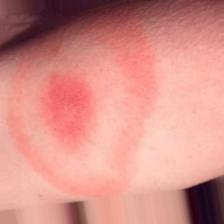Tick: (0, 26, 163, 204)
